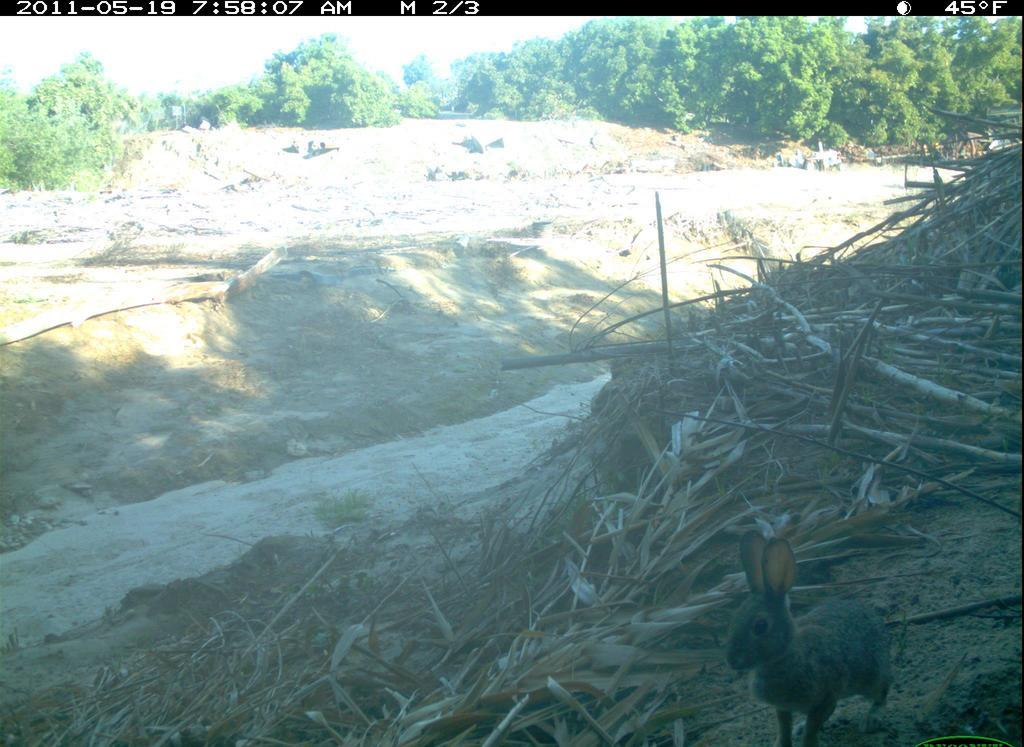rabbit: (713, 521, 902, 747)
